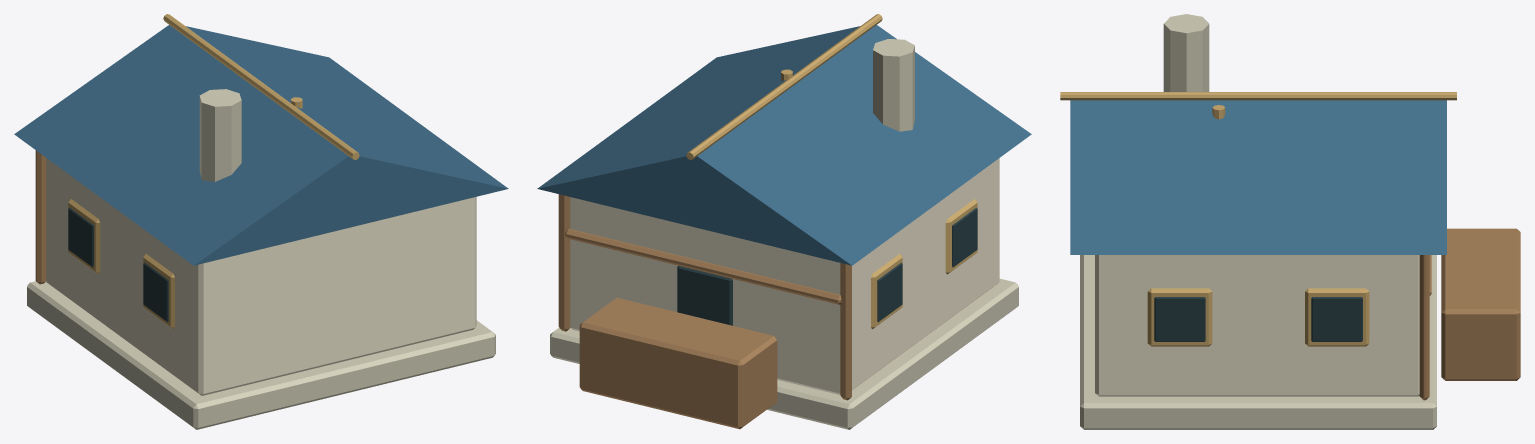
The model's file is level_01.glb.
The picture shows the model from 3 angles, left to right: view 1: azimuth 30°, elevation 25°; view 2: azimuth 150°, elevation 25°; view 3: azimuth 270°, elevation 25°; orthographic projection. The views are drawn at different scales.
Visible parts, largest first — view 1: workshop — level 01; view 2: workshop — level 01; view 3: workshop — level 01.
Part boxes in pixels (bbox=[...]): workshop — level 01: bbox=[14, 14, 508, 429]; workshop — level 01: bbox=[537, 14, 1031, 429]; workshop — level 01: bbox=[1060, 14, 1520, 429].
Size of the model in its own units: 3.85 by 3.25 by 4.64.
